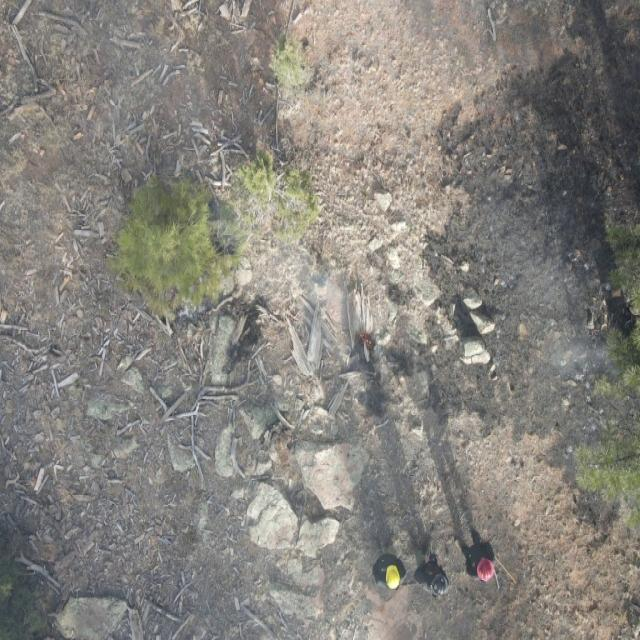fire: (354, 330, 382, 360)
smoke: (0, 0, 347, 640), (343, 175, 640, 456)
